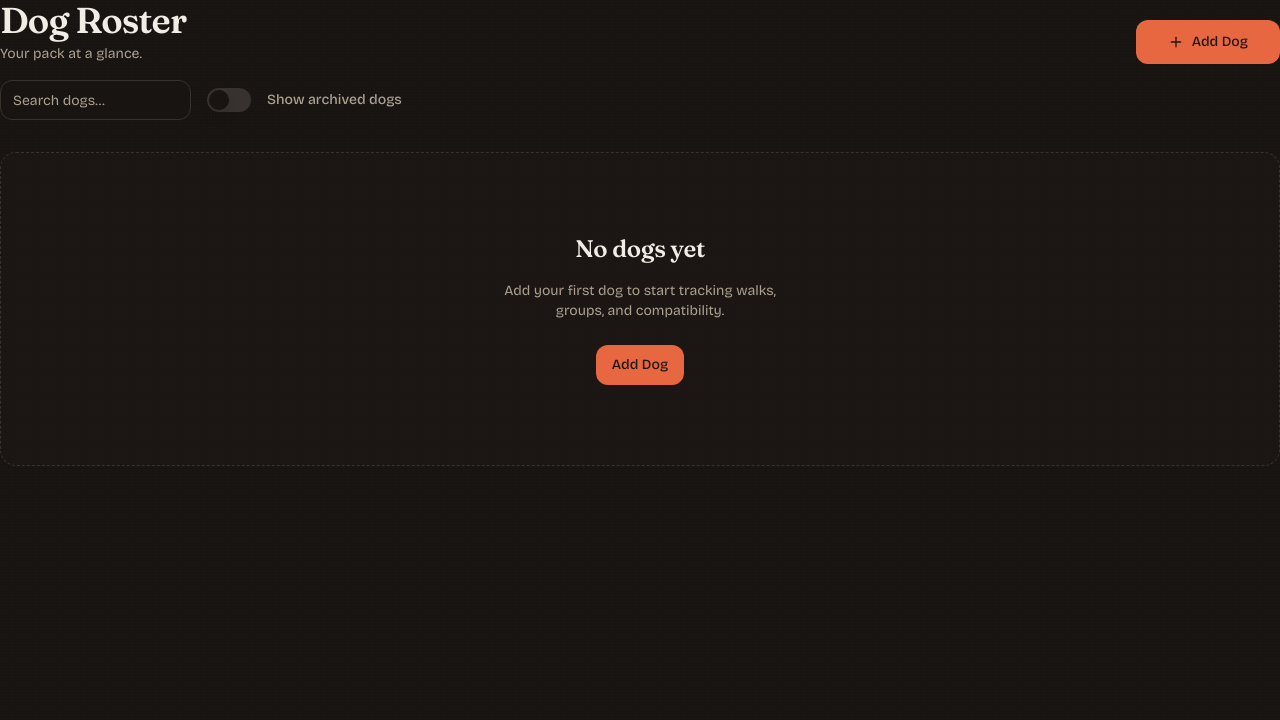
Test: DogRoster - Add flow › filling name "Rex" and clicking "Save Dog" adds card to grid
Click the button "Add Dog" in the row of "Dog Roster" at (1208,42), box top-left (1136, 20), bottom-right (1279, 64)
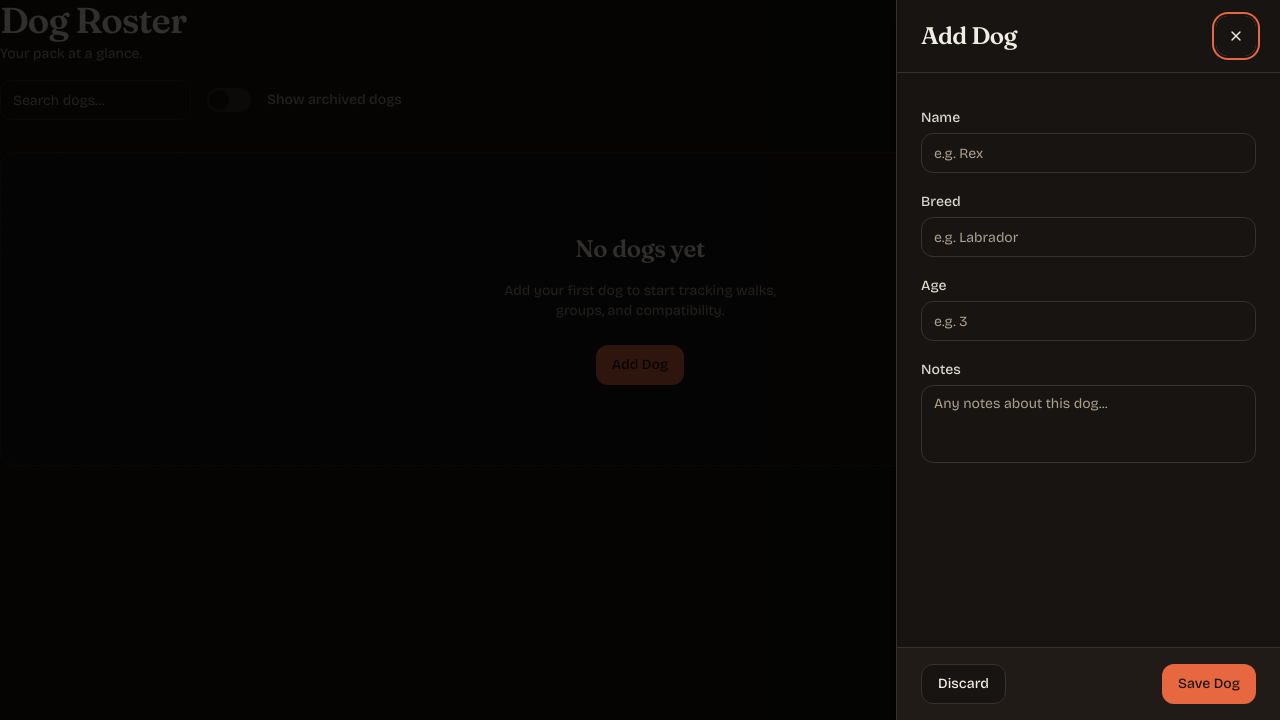
Type "Rex" into the field with placeholder "e.g. Rex" at (1088,153), box top-left (921, 133), bottom-right (1256, 173)
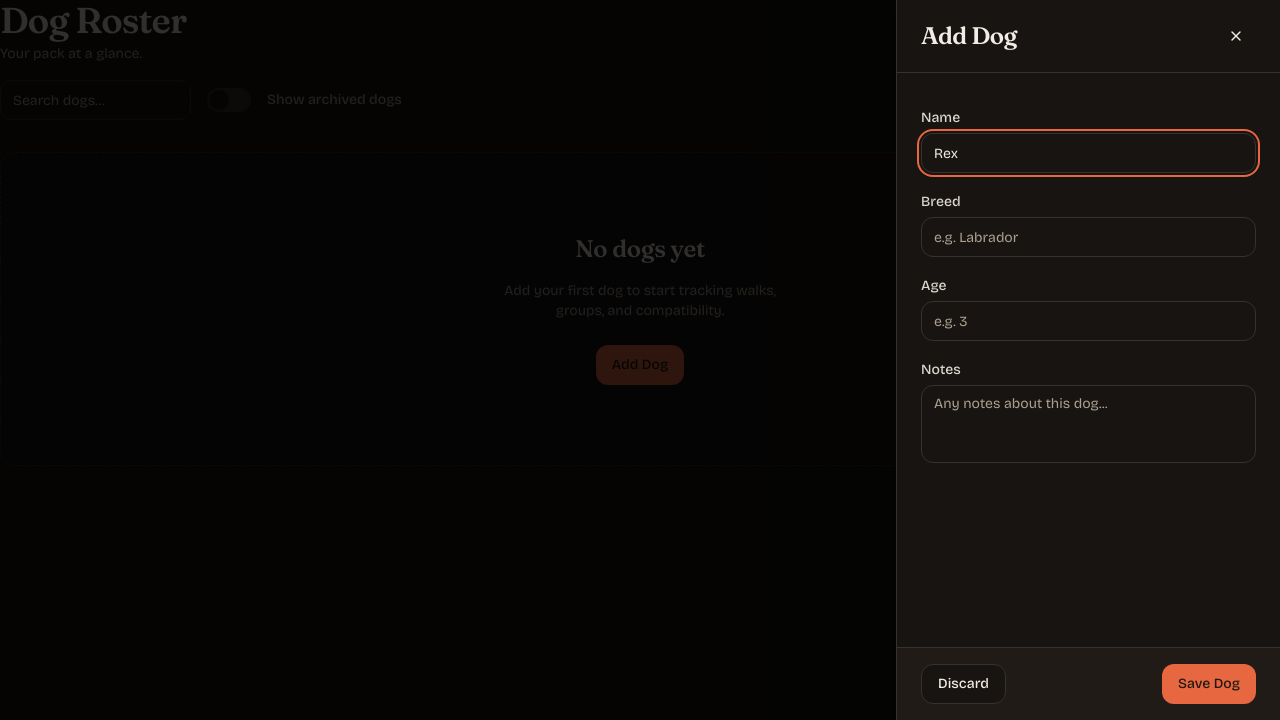
Click the button "Save Dog" at (1209,684), box top-left (1162, 664), bottom-right (1256, 704)
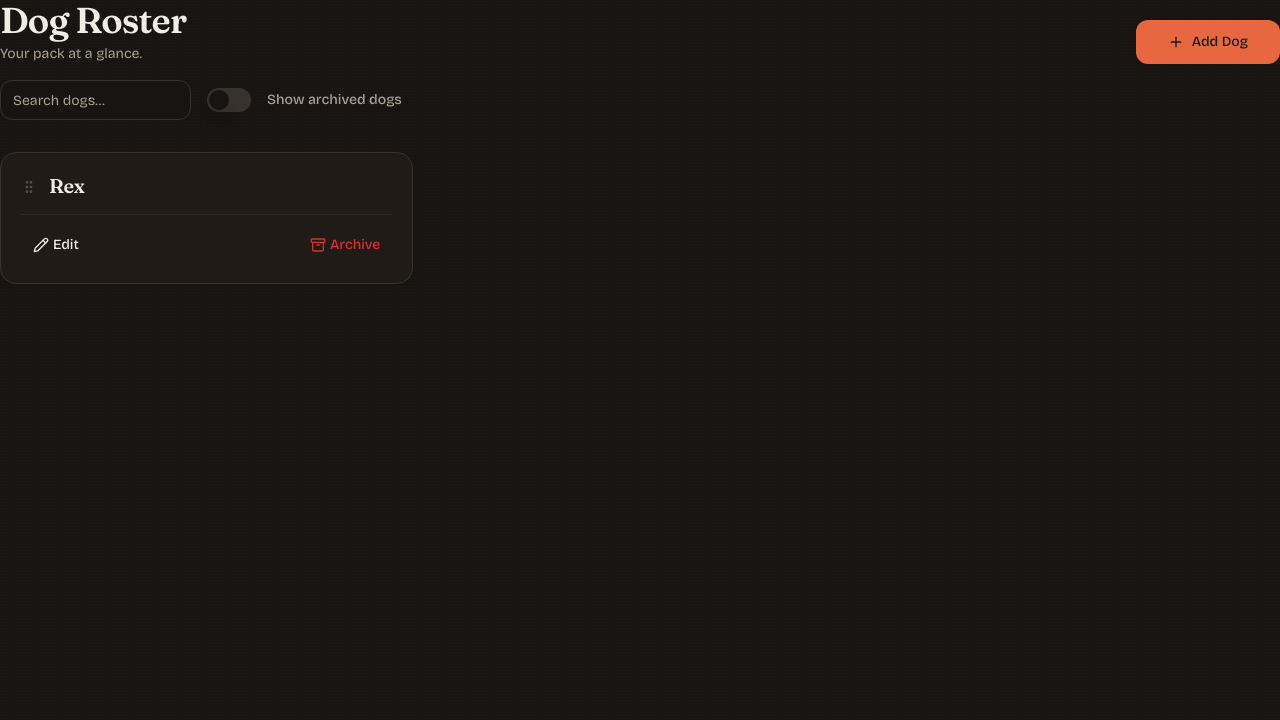
Expected: the heading "Rex" is shown, top-left (49, 173), bottom-right (84, 198)
